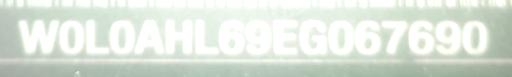letter: (14, 17, 60, 56), (163, 14, 193, 59), (270, 15, 300, 58), (105, 16, 135, 55), (298, 17, 328, 56), (406, 17, 436, 56), (134, 18, 164, 57), (217, 16, 245, 57), (380, 16, 408, 57), (354, 18, 382, 59), (460, 18, 490, 55), (84, 17, 112, 56), (57, 17, 85, 56), (244, 17, 272, 56), (326, 17, 354, 56), (433, 18, 461, 57), (194, 16, 220, 55)
